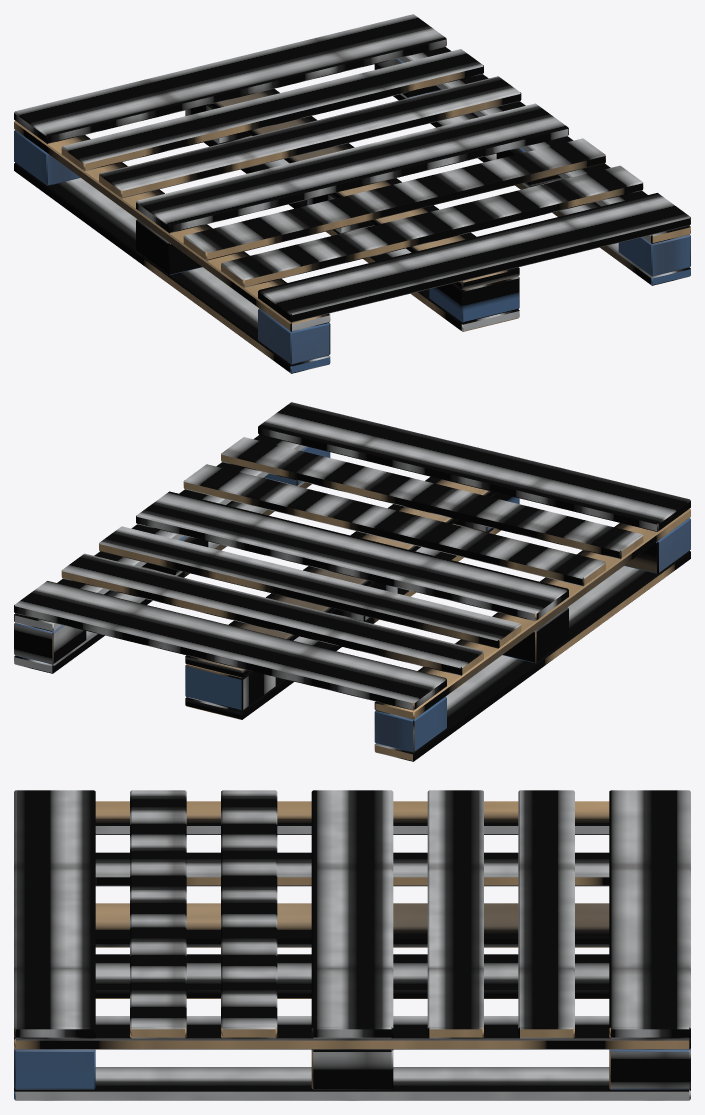
The model's file is IndustrialPallet.fbx.
3 views of the same model, one above another, from view 1: azimuth 30°, elevation 25°; view 2: azimuth 150°, elevation 25°; view 3: azimuth 270°, elevation 25° (orthographic). The views are drawn at different scales.
Parts seen in each view (by area): view 1: IndustrialPallet_LOD0; view 2: IndustrialPallet_LOD0; view 3: IndustrialPallet_LOD0.
Boxes of the visible parts, x1,y1,x2,y2 form: IndustrialPallet_LOD0: [14, 14, 690, 373]; IndustrialPallet_LOD0: [14, 402, 690, 761]; IndustrialPallet_LOD0: [14, 790, 690, 1100].
Size of what is drawn, in the model's own units: 1 by 0.144 by 1.2.
